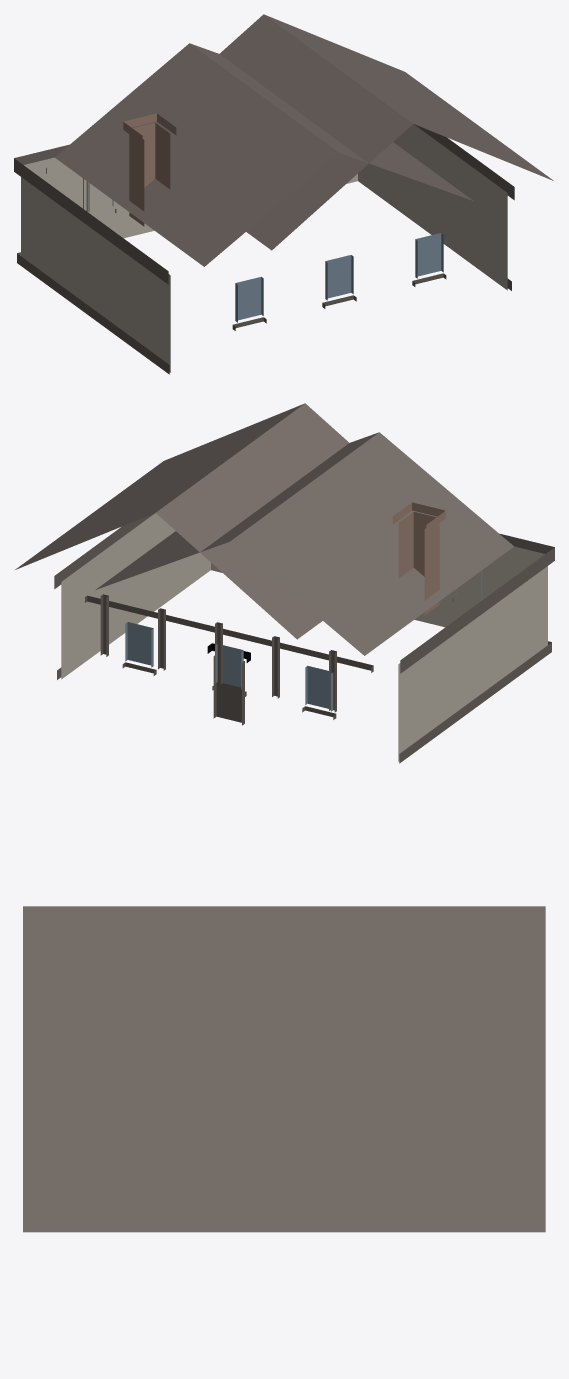
File: tudor_cottage.glb
The picture shows the model from 3 angles, top to bottom: view 1: azimuth 30°, elevation 25°; view 2: azimuth 150°, elevation 25°; view 3: azimuth 270°, elevation 25°; orthographic projection. The views are drawn at different scales.
Parts seen in each view (by area): view 1: tudor_cottage; view 2: tudor_cottage; view 3: tudor_cottage.
Boxes of the visible parts, x1,y1,x2,y2 form: tudor_cottage: (14, 14, 553, 374); tudor_cottage: (15, 403, 554, 763); tudor_cottage: (23, 906, 545, 1232).
Bounding box in the file's own units: 14.99 × 7 × 10.35.
